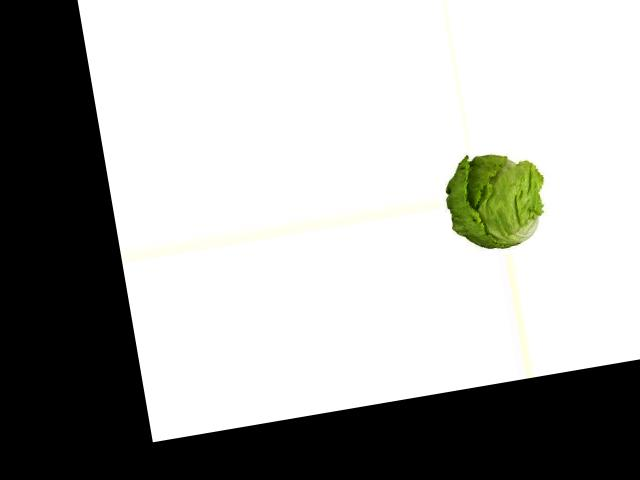lettuce: (440, 145, 550, 259)
